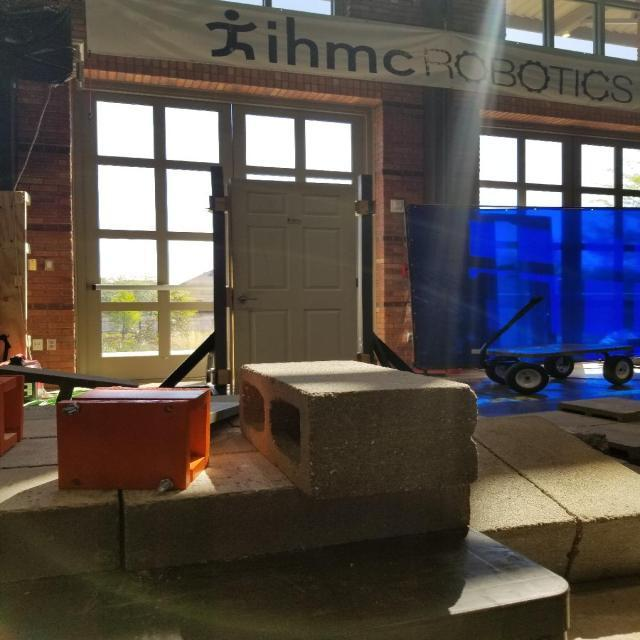door: (222, 178, 364, 415), (234, 292, 262, 309)
